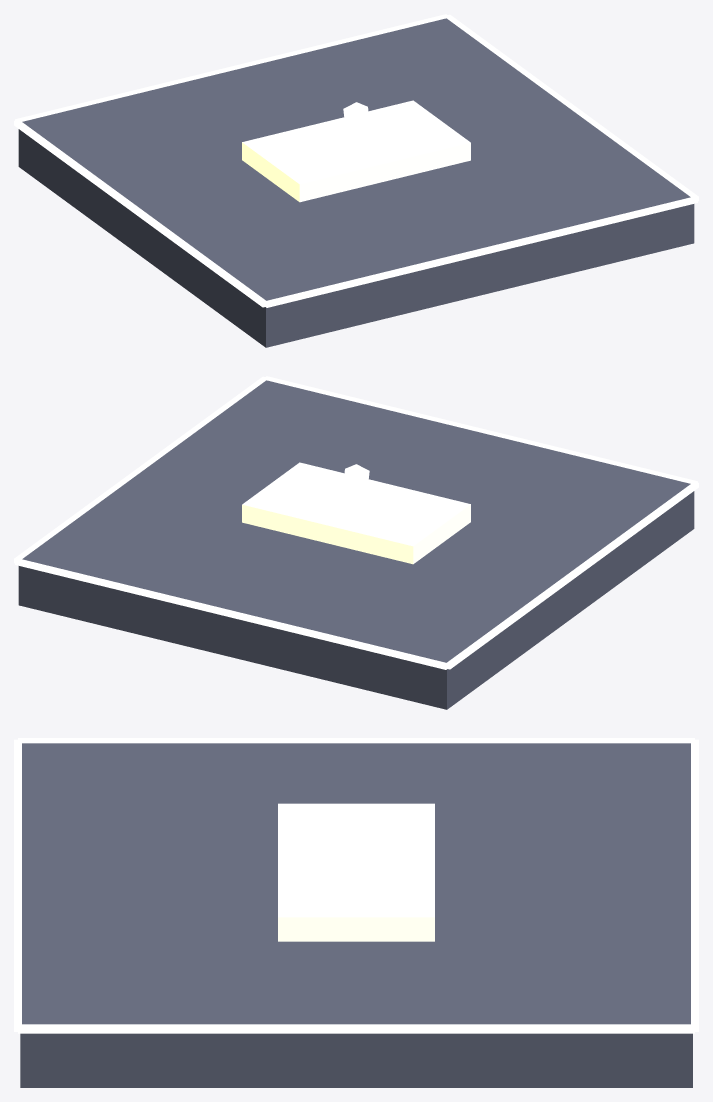
File: tower_slab.glb
3 renders of one model, top to bottom at view 1: azimuth 30°, elevation 25°; view 2: azimuth 150°, elevation 25°; view 3: azimuth 270°, elevation 25°, orthographic. The views are drawn at different scales.
Parts seen in each view (by area): view 1: PodiumBase, PenthouseWindows, PodiumGlowS, PodiumGlowW, PodiumGlowN, PodiumGlowE, Beacon; view 2: PodiumBase, PenthouseWindows, PodiumGlowN, PodiumGlowW, PodiumGlowS, PodiumGlowE, Beacon; view 3: PodiumBase, PenthouseWindows, PodiumGlowE, PodiumGlowW, PodiumGlowN, PodiumGlowS, Beacon.
Boxes of the visible parts, left/top/right/bottom form: PodiumBase: left=18, top=18, right=694, bottom=347; PenthouseWindows: left=242, top=100, right=470, bottom=202; PodiumGlowS: left=264, top=196, right=697, bottom=307; PodiumGlowW: left=14, top=120, right=265, bottom=307; PodiumGlowN: left=15, top=14, right=448, bottom=121; PodiumGlowE: left=446, top=14, right=698, bottom=201; Beacon: left=343, top=102, right=369, bottom=128; PodiumBase: left=18, top=380, right=694, bottom=709; PenthouseWindows: left=242, top=462, right=470, bottom=564; PodiumGlowN: left=15, top=558, right=448, bottom=669; PodiumGlowW: left=447, top=482, right=698, bottom=669; PodiumGlowS: left=265, top=376, right=697, bottom=483; PodiumGlowE: left=14, top=376, right=267, bottom=563; Beacon: left=343, top=464, right=369, bottom=490; PodiumBase: left=20, top=743, right=692, bottom=1087; PenthouseWindows: left=278, top=803, right=434, bottom=941; PodiumGlowE: left=18, top=1024, right=694, bottom=1033; PodiumGlowW: left=18, top=738, right=694, bottom=743; PodiumGlowN: left=691, top=739, right=698, bottom=1031; PodiumGlowS: left=14, top=739, right=21, bottom=1031; Beacon: left=339, top=805, right=373, bottom=841.
Size of the model in its own units: 30.55 by 6.9 by 30.55.
